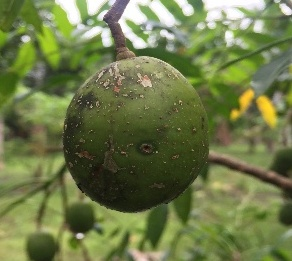Coc: (59, 51, 212, 224)
